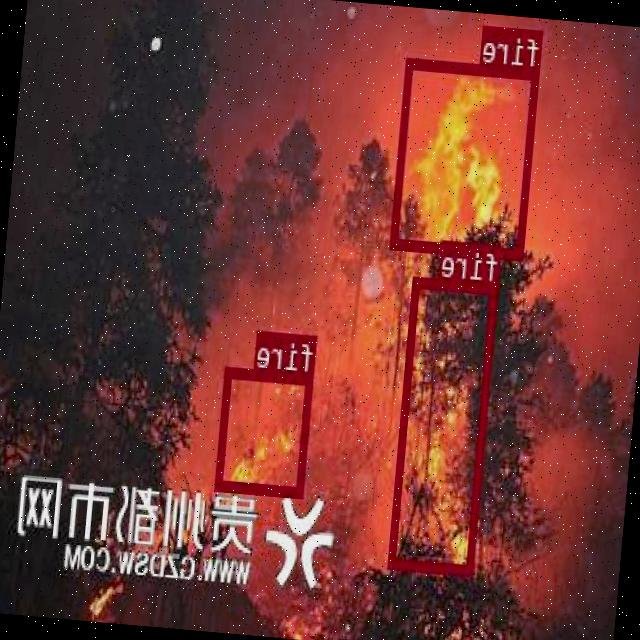fire: (389, 275, 500, 572), (391, 56, 542, 258), (216, 364, 314, 494)
